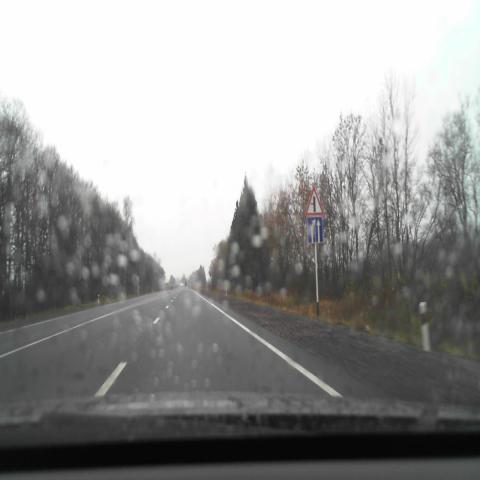2_3_3: (305, 186, 324, 216)
5_15_5: (307, 217, 323, 243)
